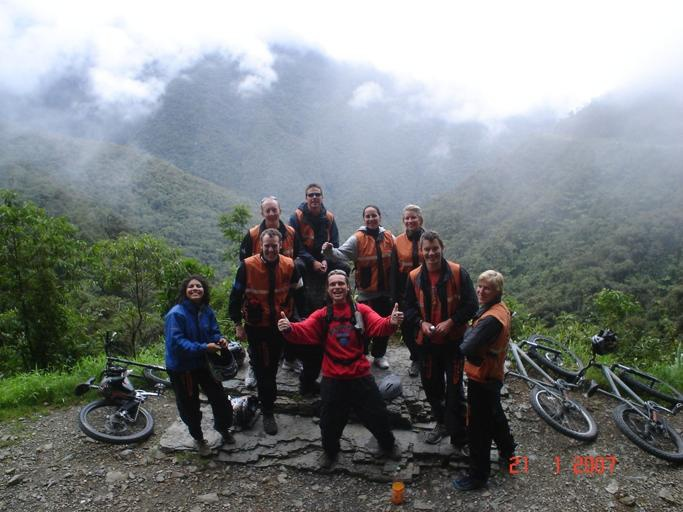non-vehicle: (575, 327, 681, 466), (502, 308, 598, 441), (73, 327, 176, 445)
